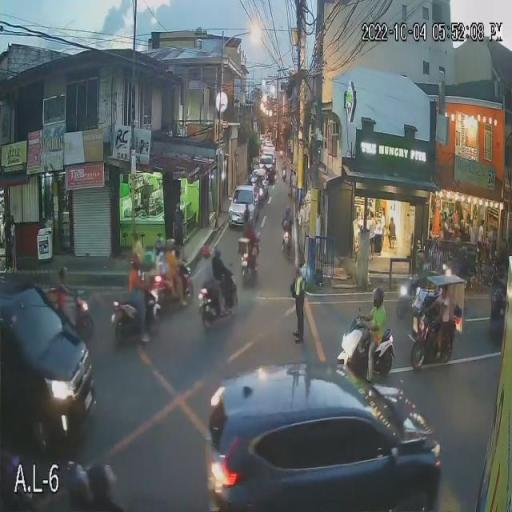helmet: (57, 267, 75, 284), (373, 286, 384, 306), (166, 238, 177, 257), (154, 237, 166, 254), (130, 251, 142, 267), (211, 248, 224, 261), (284, 207, 292, 218)
motorcycle: (336, 314, 394, 382), (110, 280, 160, 343), (198, 270, 239, 328), (52, 286, 94, 336), (148, 270, 195, 312), (239, 250, 259, 292), (280, 226, 294, 256)
rider: (356, 286, 387, 370), (206, 247, 237, 313), (127, 250, 147, 337), (46, 270, 76, 310), (168, 238, 185, 296), (157, 245, 176, 292), (241, 224, 259, 267), (281, 206, 293, 237), (144, 252, 156, 273)
